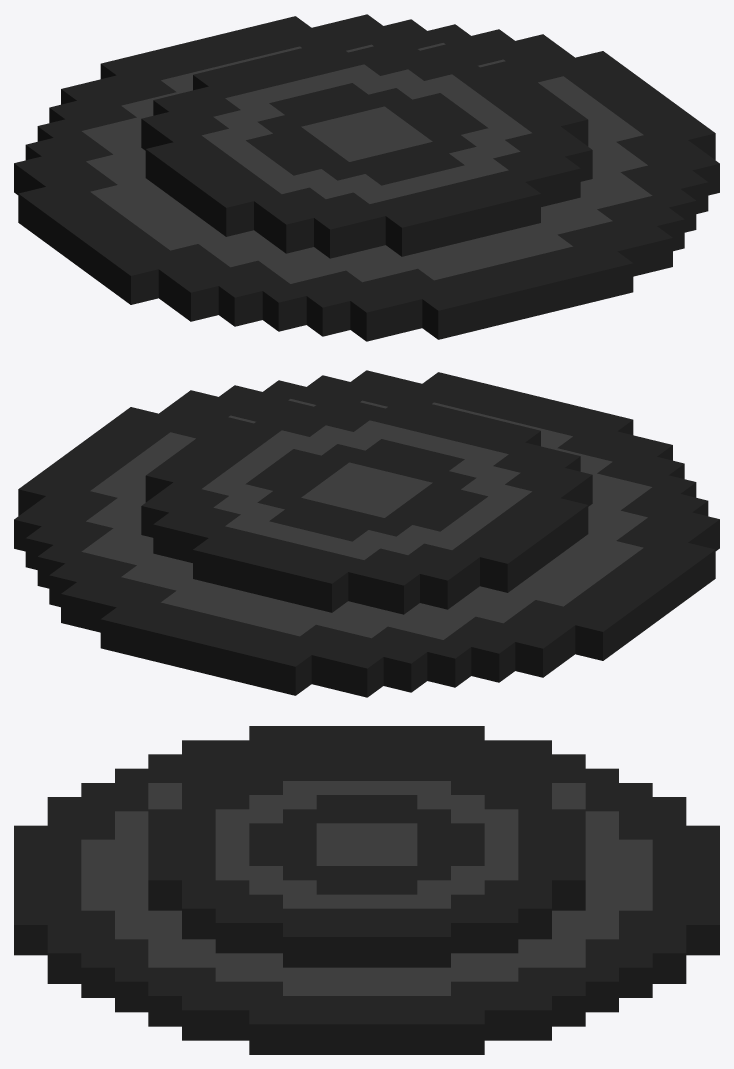
File: trampoline-3.obj
The picture shows the model from 3 angles, top to bottom: view 1: azimuth 30°, elevation 25°; view 2: azimuth 150°, elevation 25°; view 3: azimuth 270°, elevation 25°; orthographic projection. The views are drawn at different scales.
Bounding box in the file's own units: 2.1 × 0.2 × 2.1.
1 material, 1 textured.
